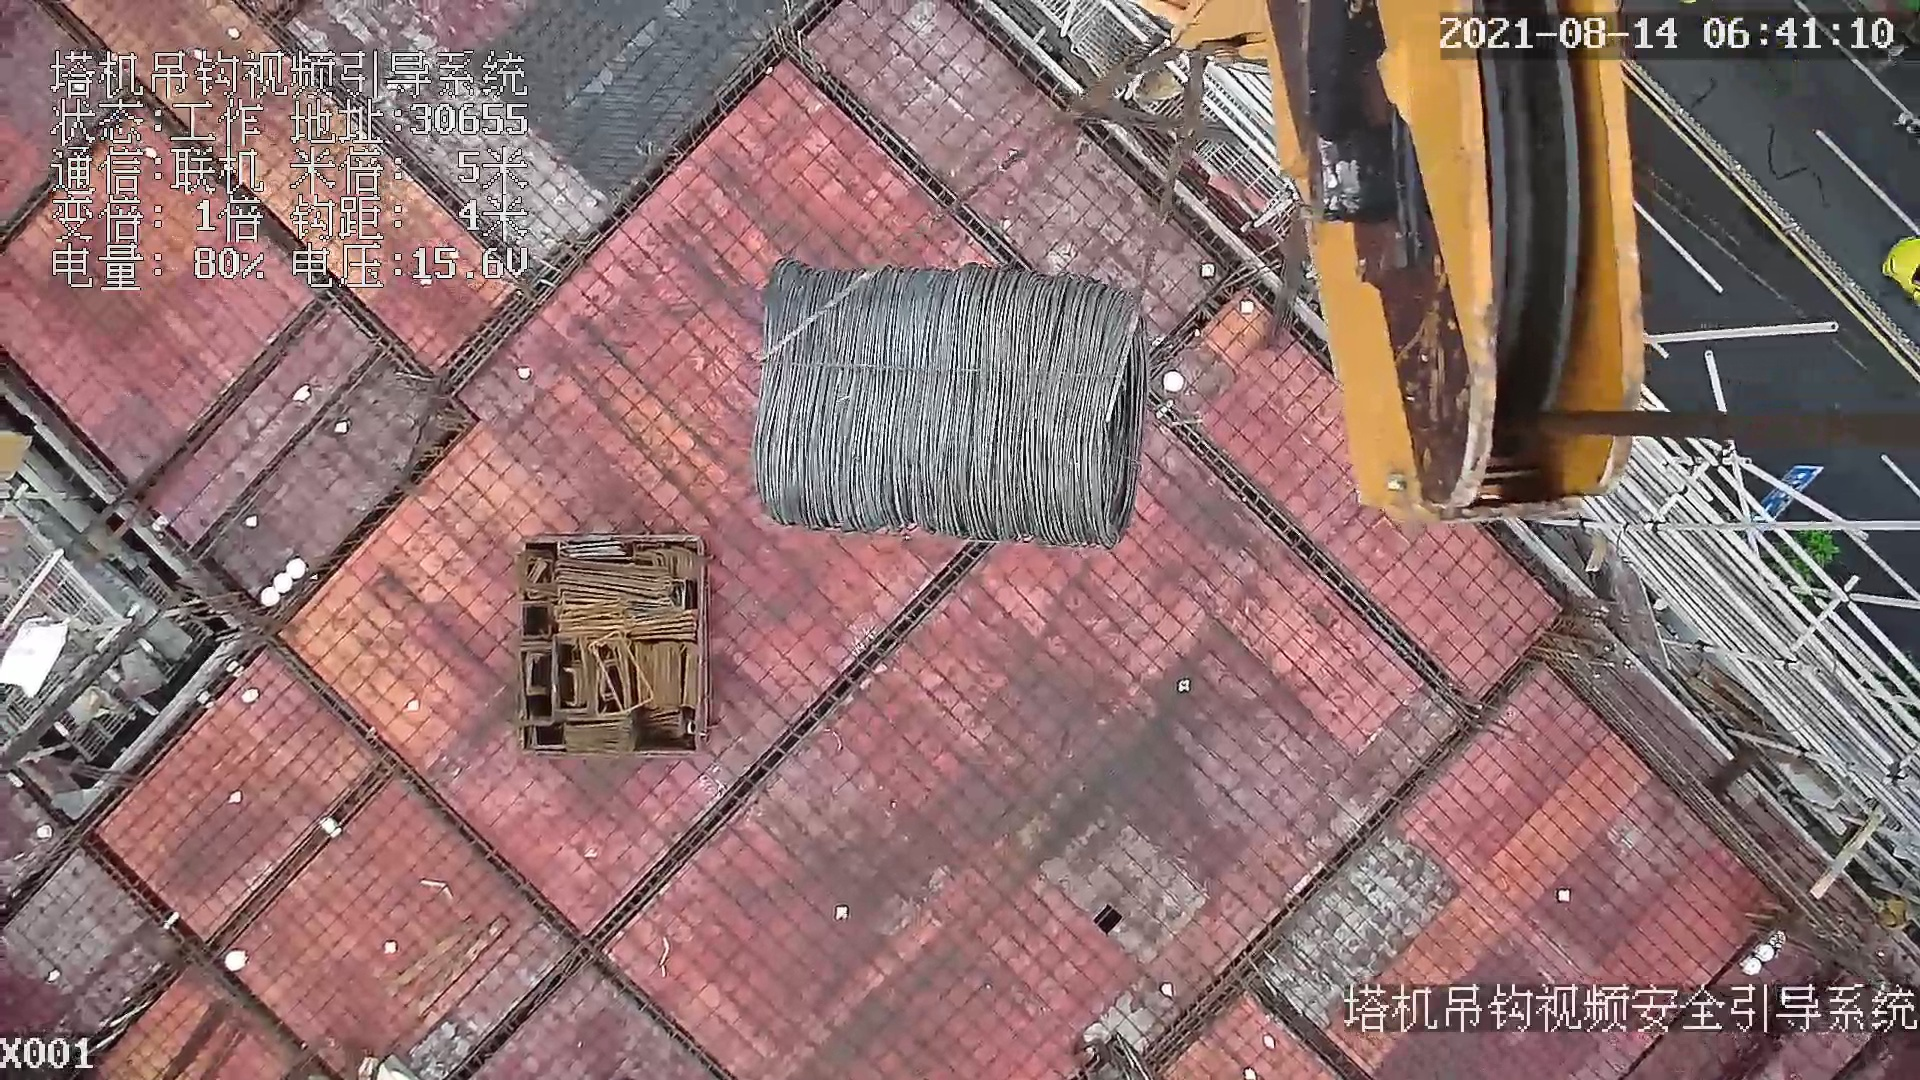hook: (1151, 1, 1667, 506)
